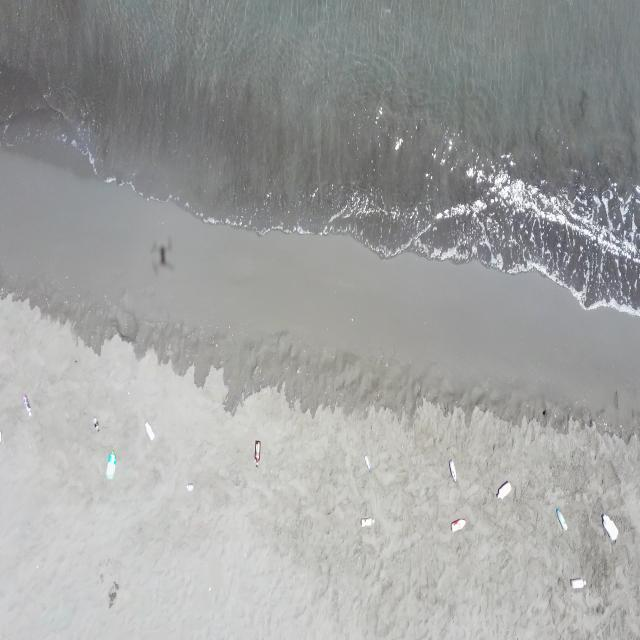Garbage: (602, 513, 616, 540), (496, 480, 511, 499), (105, 451, 115, 479), (108, 580, 118, 607), (555, 507, 566, 529), (144, 420, 154, 440), (253, 440, 260, 466), (23, 393, 31, 415), (452, 517, 464, 531), (448, 459, 455, 480), (569, 577, 583, 587), (91, 416, 99, 431), (360, 517, 372, 526), (364, 455, 371, 470), (187, 483, 192, 491)
